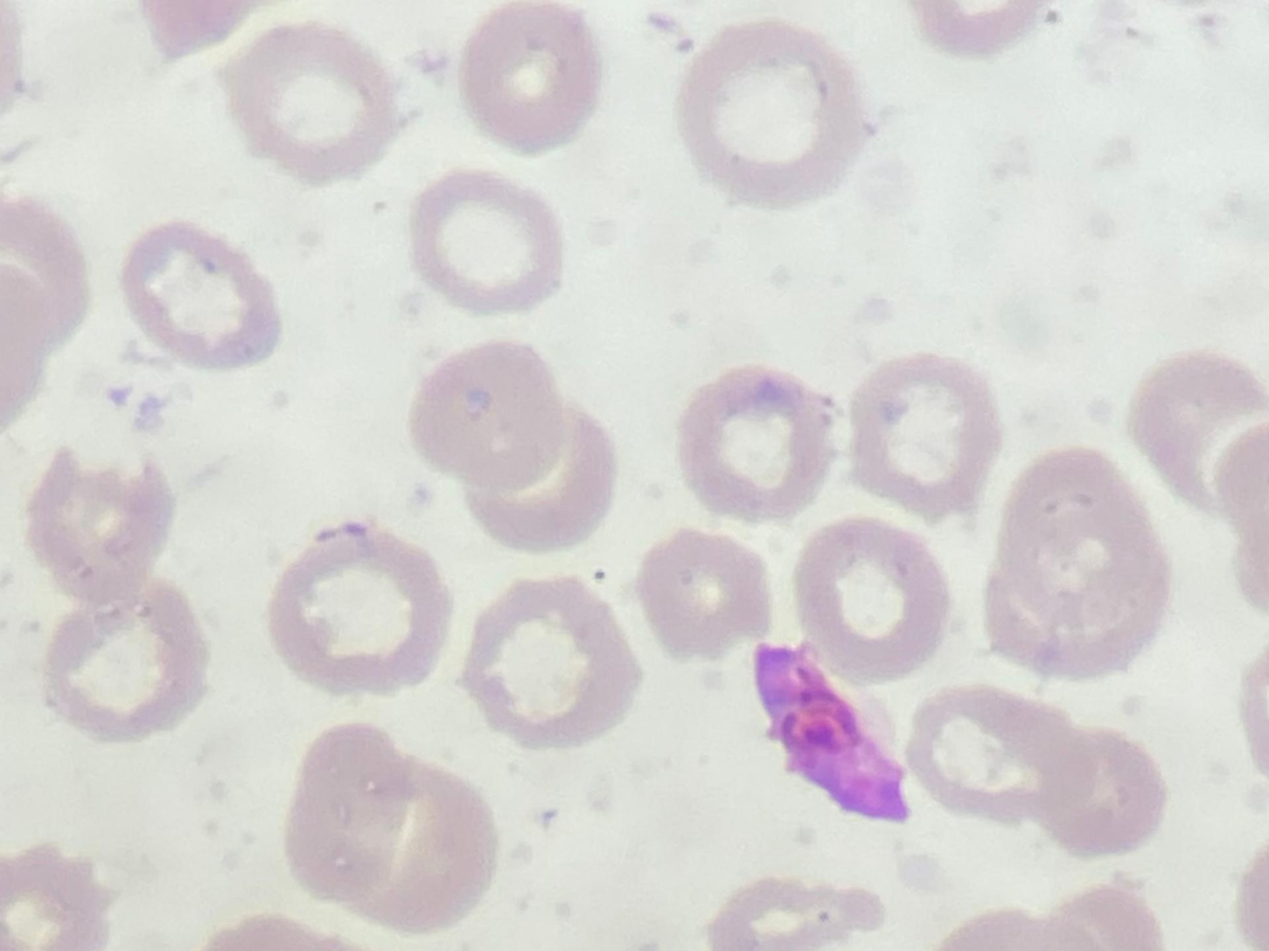Infected: (753, 637, 912, 819)
Uninfected: (284, 723, 497, 936), (408, 337, 613, 547), (913, 685, 1163, 857), (986, 447, 1167, 677), (677, 20, 868, 206), (266, 523, 452, 697), (460, 576, 639, 746), (220, 21, 399, 185), (794, 517, 954, 682), (40, 585, 208, 740), (847, 352, 1004, 517), (24, 445, 177, 613), (675, 364, 837, 522), (1130, 349, 1268, 524), (122, 218, 281, 365), (410, 170, 568, 315), (458, 3, 603, 154), (635, 527, 774, 660)
